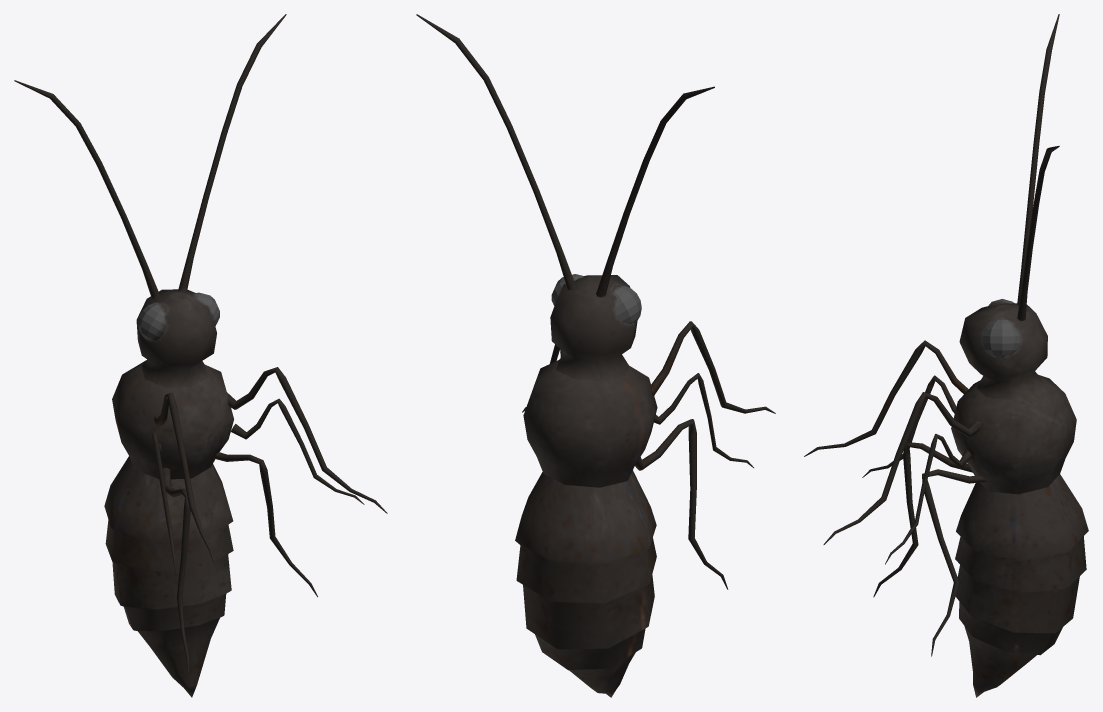
Rendered from cuerpo.obj.
The picture shows the model from 3 angles, left to right: view 1: azimuth 30°, elevation 25°; view 2: azimuth 150°, elevation 25°; view 3: azimuth 270°, elevation 25°; orthographic projection. The views are drawn at different scales.
Visible parts, largest first — view 1: butterfly_01:Butterfly_tri_torso_leg_01; view 2: butterfly_01:Butterfly_tri_torso_leg_01; view 3: butterfly_01:Butterfly_tri_torso_leg_01.
Part boxes in pixels (bbox=[...]): butterfly_01:Butterfly_tri_torso_leg_01: bbox=[14, 14, 387, 697]; butterfly_01:Butterfly_tri_torso_leg_01: bbox=[416, 14, 775, 697]; butterfly_01:Butterfly_tri_torso_leg_01: bbox=[804, 14, 1088, 697].
Size of the model in its own units: 0.7511 by 1.64 by 0.6834.
1 material, 1 textured.
